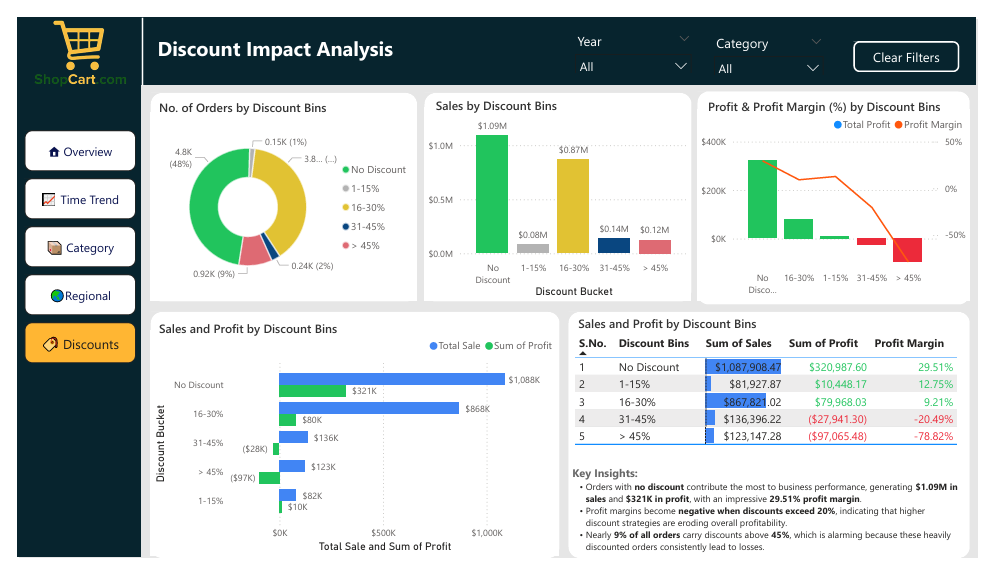

This screenshot's page, from the dashboard's own definition file:
{"tool":"powerbi","page":{"name":"🏷️ Discounts","canvas":[1280,720],"ordinal":4},"visuals":[{"type":"shape","box":[1.5,1.5,1278.5,718.5],"z":0},{"type":"shape","box":[176.9,100,355.4,278.5],"z":1000},{"type":"shape","box":[176.9,392.3,544.6,327.7],"z":2000},{"type":"shape","box":[906.2,98.5,363.1,283.1],"z":3000},{"type":"donutChart","fields":{"Category":["shopcart.Discount Bucket"],"Y":["CountNonNull(shopcart.Order ID)"]},"box":[176.9,126.2,355.4,252.3],"z":4000},{"type":"lineClusteredColumnComboChart","fields":{"Category":["shopcart.Discount Bucket"],"Y":["shopcart.Total Profit"],"Y2":["shopcart.Profit Margin"]},"box":[906.2,121.5,363.1,256.9],"z":5000},{"type":"shape","box":[0,0,164.6,718.5],"z":6000},{"type":"shape","box":[164.6,0,1113.8,90],"z":7000},{"type":"pageNavigator","box":[8.8,149.9,148.4,314.4],"z":8000},{"type":"image","box":[1.5,0,163.6,97],"z":9000},{"type":"shape","box":[733.8,392.3,535.4,327.7],"z":10000},{"type":"tableEx","fields":{"Values":["shopcart.discount_sort","shopcart.Discount Bucket","Sum(shopcart.Sales)","Sum(shopcart.Profit)","shopcart.Profit Margin"]},"box":[736.9,416.9,532.3,161.5],"z":11000},{"type":"clusteredBarChart","fields":{"Category":["shopcart.Discount Bucket"],"Y":["shopcart.Total Sale","Sum(shopcart.Profit)"]},"box":[176.9,416.9,544.6,301.5],"z":12000},{"type":"shape","box":[541.5,100,356.9,278.5],"z":13000},{"type":"columnChart","fields":{"Category":["shopcart.Discount Bucket"],"Y":["shopcart.Total Sale"]},"box":[541.5,120,356.9,258.5],"z":14000},{"type":"textbox","box":[183.1,103.1,266.2,35.4],"z":15000},{"type":"textbox","box":[552.2,101.5,244.8,35.8],"z":16000},{"type":"textbox","box":[915.4,101.5,349.2,35.4],"z":17000},{"type":"textbox","box":[183.1,398.5,313.8,36.9],"z":18000},{"type":"textbox","box":[741.5,392.3,313.8,36.9],"z":19000},{"type":"textbox","box":[733.8,590.8,527.7,127.7],"z":20000},{"type":"textbox","box":[166.2,16.9,353.8,55.4],"z":21000},{"type":"slicer","fields":{"Values":["shopcart.Order Date.Variation.Date Hierarchy.Year"]},"box":[733.2,13.2,174.9,60.2],"z":22000},{"type":"slicer","fields":{"Values":["shopcart.Category"]},"box":[918.4,16.2,166,60.2],"z":23000},{"type":"shape","box":[135.2,0,61.7,89.6],"z":24000},{"type":"actionButton","box":[1113.8,30.9,141.1,41.1],"z":25000}]}

Visuals, with their boxes in screenshot pixels (x1, y1, x2, y2), scaled from the page's 1280x720 canvas onto the 996x576 screenshot:
shape: (x1=1, y1=1, x2=995, y2=575)
shape: (x1=138, y1=80, x2=414, y2=303)
shape: (x1=138, y1=314, x2=561, y2=575)
shape: (x1=705, y1=79, x2=988, y2=305)
donutChart - shopcart.Discount Bucket x CountNonNull(shopcart.Order ID): (x1=138, y1=101, x2=414, y2=303)
lineClusteredColumnComboChart - shopcart.Discount Bucket x shopcart.Total Profit: (x1=705, y1=97, x2=988, y2=303)
shape: (x1=0, y1=0, x2=128, y2=575)
shape: (x1=128, y1=0, x2=995, y2=72)
pageNavigator: (x1=7, y1=120, x2=122, y2=371)
image: (x1=1, y1=0, x2=128, y2=78)
shape: (x1=571, y1=314, x2=988, y2=575)
tableEx - shopcart.discount_sort x shopcart.Discount Bucket: (x1=573, y1=334, x2=988, y2=463)
clusteredBarChart - shopcart.Discount Bucket x shopcart.Total Sale: (x1=138, y1=334, x2=561, y2=575)
shape: (x1=421, y1=80, x2=699, y2=303)
columnChart - shopcart.Discount Bucket x shopcart.Total Sale: (x1=421, y1=96, x2=699, y2=303)
textbox: (x1=142, y1=82, x2=350, y2=111)
textbox: (x1=430, y1=81, x2=620, y2=110)
textbox: (x1=712, y1=81, x2=984, y2=110)
textbox: (x1=142, y1=319, x2=387, y2=348)
textbox: (x1=577, y1=314, x2=821, y2=343)
textbox: (x1=571, y1=473, x2=982, y2=575)
textbox: (x1=129, y1=14, x2=405, y2=58)
slicer - shopcart.Order Date.Variation.Date Hierarchy.Year: (x1=571, y1=11, x2=707, y2=59)
slicer - shopcart.Category: (x1=715, y1=13, x2=844, y2=61)
shape: (x1=105, y1=0, x2=153, y2=72)
actionButton: (x1=867, y1=25, x2=976, y2=58)
